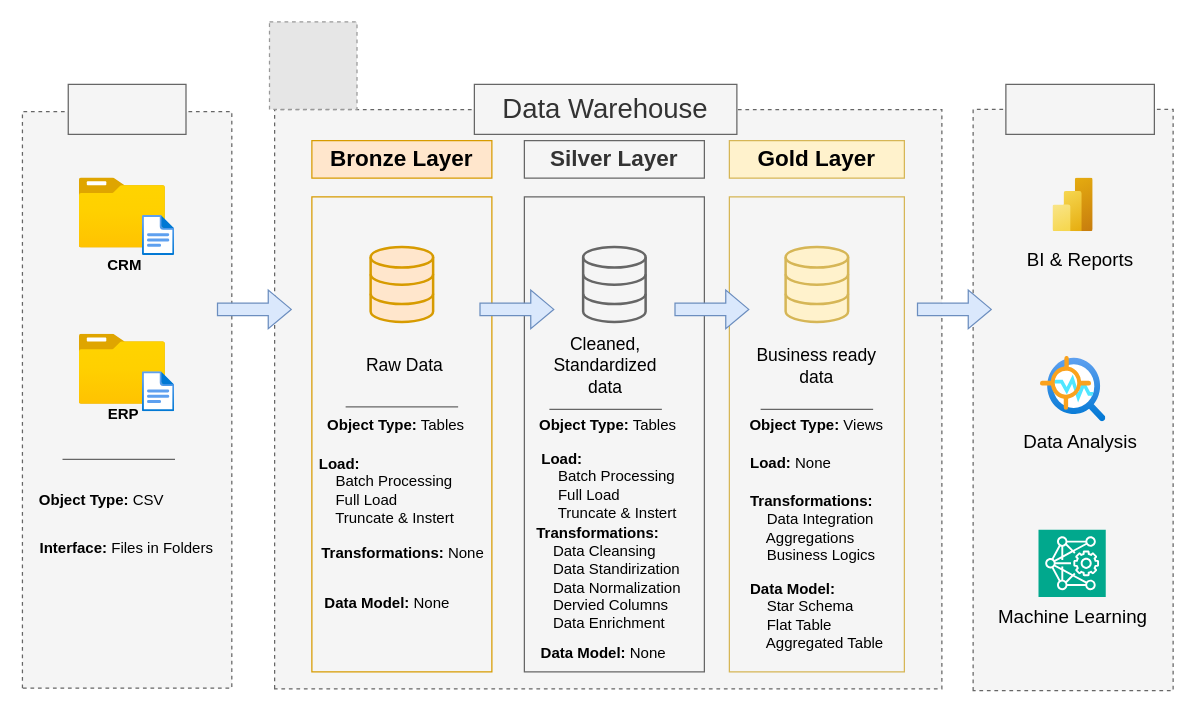
Some shapes in this 1195 by 713 pixel diagram are drawn without their labels. Grey dashed boxes stand in for pictures. The shapes that lost their labels are listed below. From the top down, each one's centre as x and y in pixels, then its label:
At point (126, 108): "Sources".
At point (1079, 108): "Consumer".
